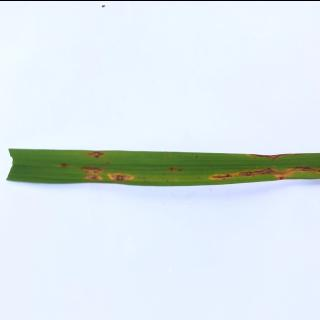Blast: (110, 172, 136, 182), (298, 164, 320, 173), (84, 165, 104, 173), (260, 167, 278, 175), (210, 173, 232, 179), (84, 173, 102, 180), (87, 151, 105, 158), (237, 170, 253, 177), (267, 154, 282, 160)
